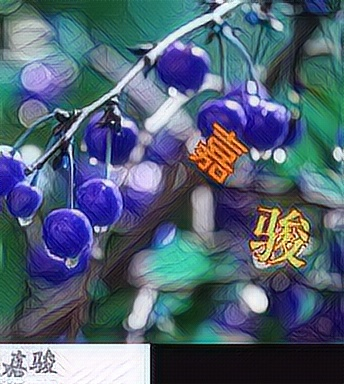BCCE: (185, 119, 248, 185)
BFA5: (250, 204, 313, 270)
